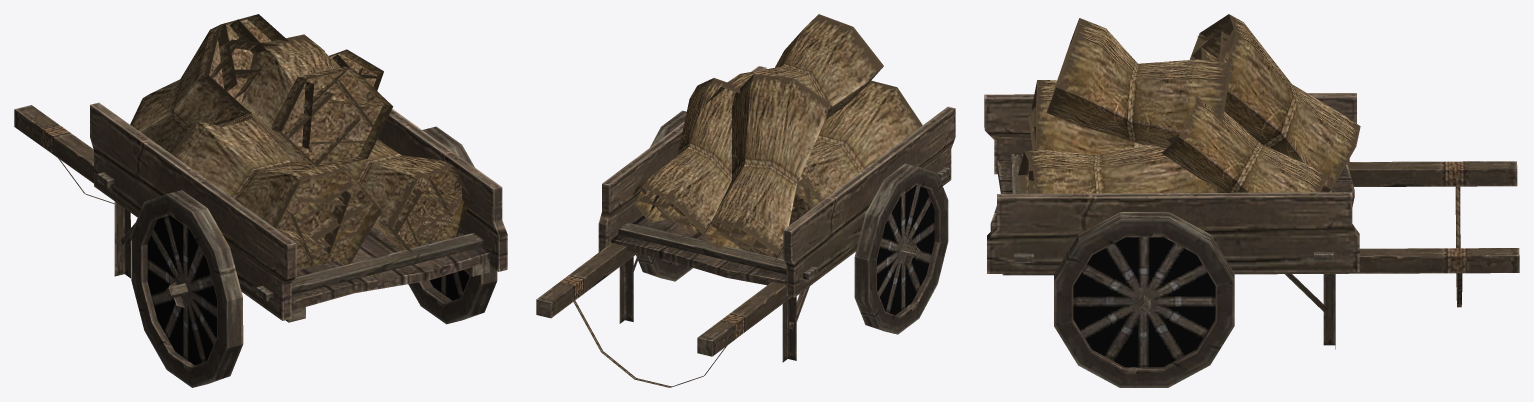
3 renders of one model, left to right at view 1: azimuth 30°, elevation 25°; view 2: azimuth 150°, elevation 25°; view 3: azimuth 270°, elevation 25°, orthographic. The views are drawn at different scales.
Parts seen in each view (by area): view 1: qingmo_obj_297 [10484681]; view 2: qingmo_obj_297 [10484681]; view 3: qingmo_obj_297 [10484681].
Boxes of the visible parts, x1,y1,x2,y2 form: qingmo_obj_297 [10484681]: (14, 14, 507, 387); qingmo_obj_297 [10484681]: (536, 14, 955, 387); qingmo_obj_297 [10484681]: (984, 14, 1519, 387).
Size of the model in its own units: 17.32 by 28.46 by 17.01.
Materials: 1 (1 with a texture image).
